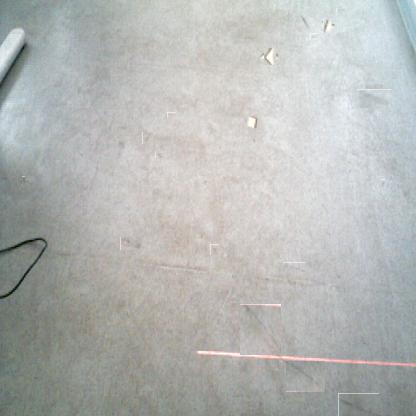dirty: (262, 47, 278, 63), (322, 19, 334, 32), (245, 116, 257, 128)
mark: (240, 304, 282, 355), (285, 360, 325, 392), (338, 393, 379, 416), (361, 86, 388, 112), (120, 236, 141, 250), (282, 262, 306, 273), (300, 14, 310, 30), (142, 133, 154, 144), (333, 270, 343, 280), (115, 124, 127, 132), (210, 245, 219, 254), (117, 139, 125, 149), (156, 150, 164, 159), (200, 178, 208, 186), (200, 230, 206, 240), (310, 33, 318, 40), (20, 178, 27, 186), (380, 179, 386, 188), (168, 111, 175, 118), (337, 7, 344, 14), (251, 137, 257, 145), (0, 175, 8, 181), (78, 152, 84, 158)
